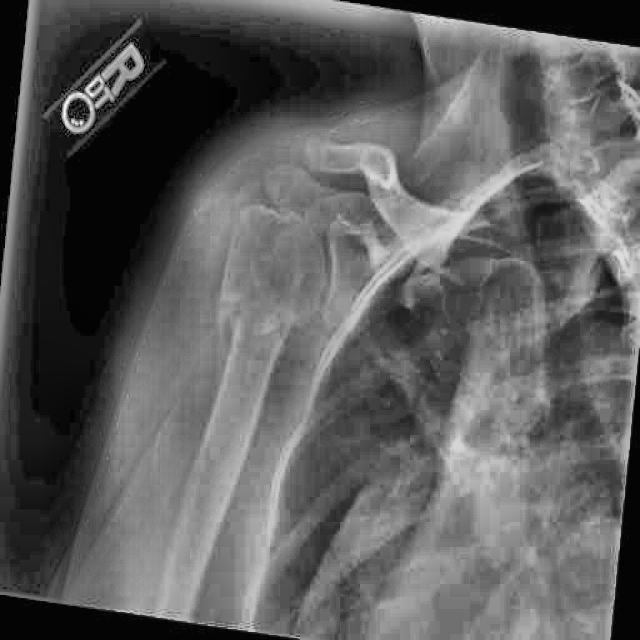shoulder fracture: (191, 281, 287, 379)
